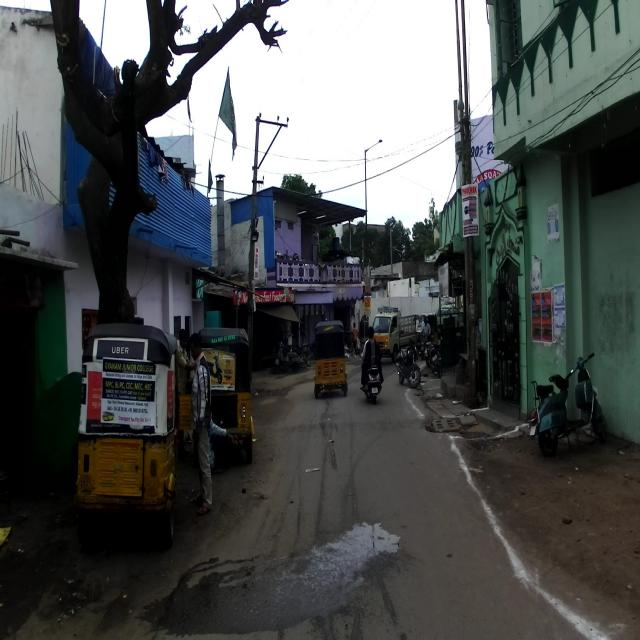autorickshaw: (74, 322, 177, 546), (175, 326, 255, 468)
scooter: (526, 351, 608, 458), (357, 346, 388, 410)
truck: (371, 304, 416, 364)
